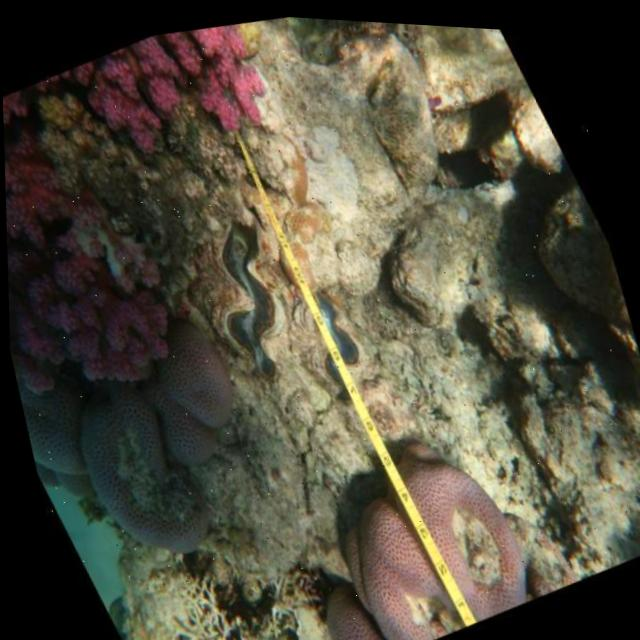Healthy Coral: (2, 75, 172, 413), (74, 7, 303, 190)
